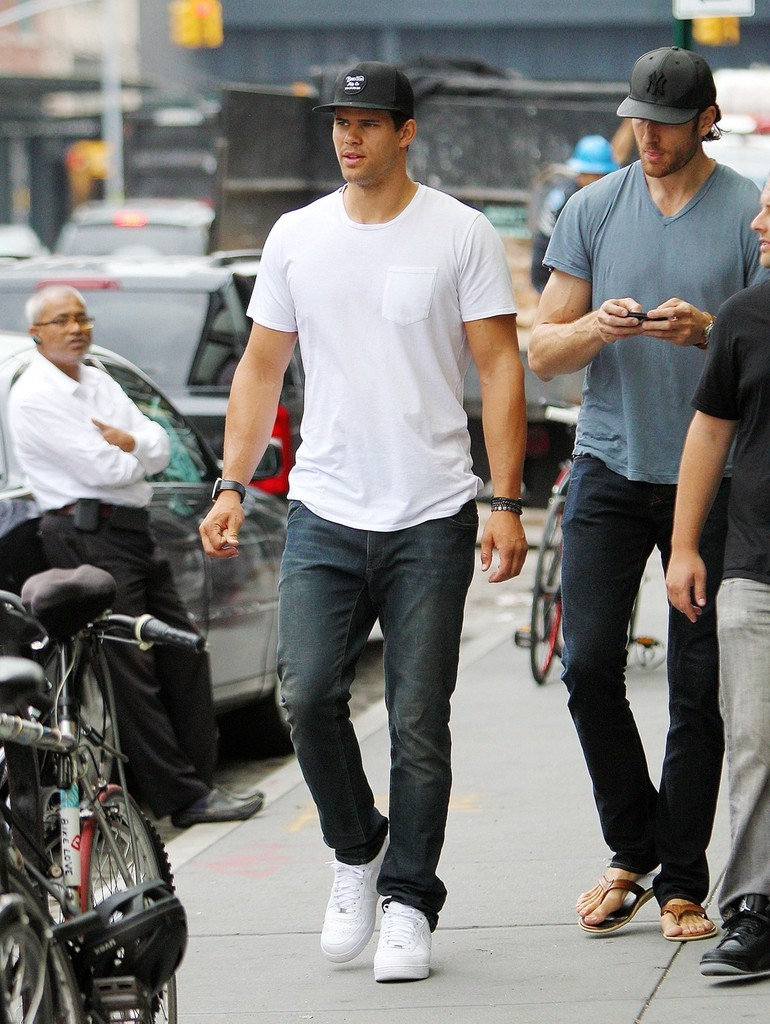Person: (196, 60, 526, 983), (528, 42, 770, 944), (6, 284, 268, 829)
